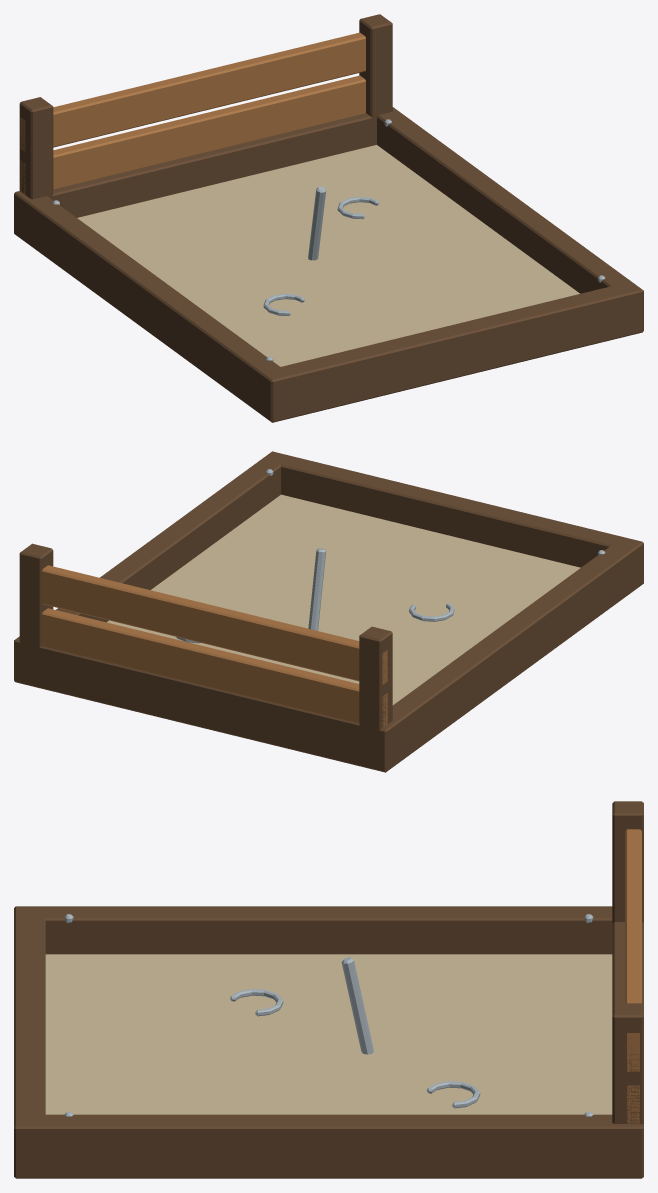
The model's file is b09_horseshoe_pitching_pit.glb.
The picture shows the model from 3 angles, top to bottom: view 1: azimuth 30°, elevation 25°; view 2: azimuth 150°, elevation 25°; view 3: azimuth 270°, elevation 25°; orthographic projection. The views are drawn at different scales.
Parts seen in each view (by area): view 1: b09_horseshoe_pitching_pit; view 2: b09_horseshoe_pitching_pit; view 3: b09_horseshoe_pitching_pit.
Part boxes in pixels (box(x1,y1,x2,y2)): b09_horseshoe_pitching_pit: box(14, 14, 643, 422); b09_horseshoe_pitching_pit: box(14, 451, 643, 772); b09_horseshoe_pitching_pit: box(14, 801, 643, 1178).
Bounding box in the file's own units: 2 × 0.675 × 2.4.
